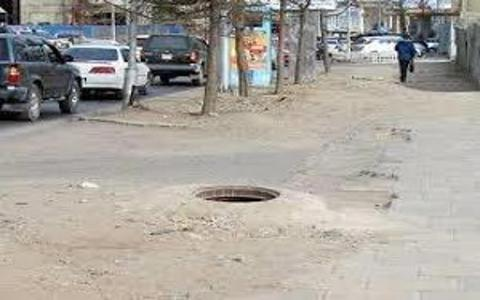open manhole: (155, 170, 337, 219)
